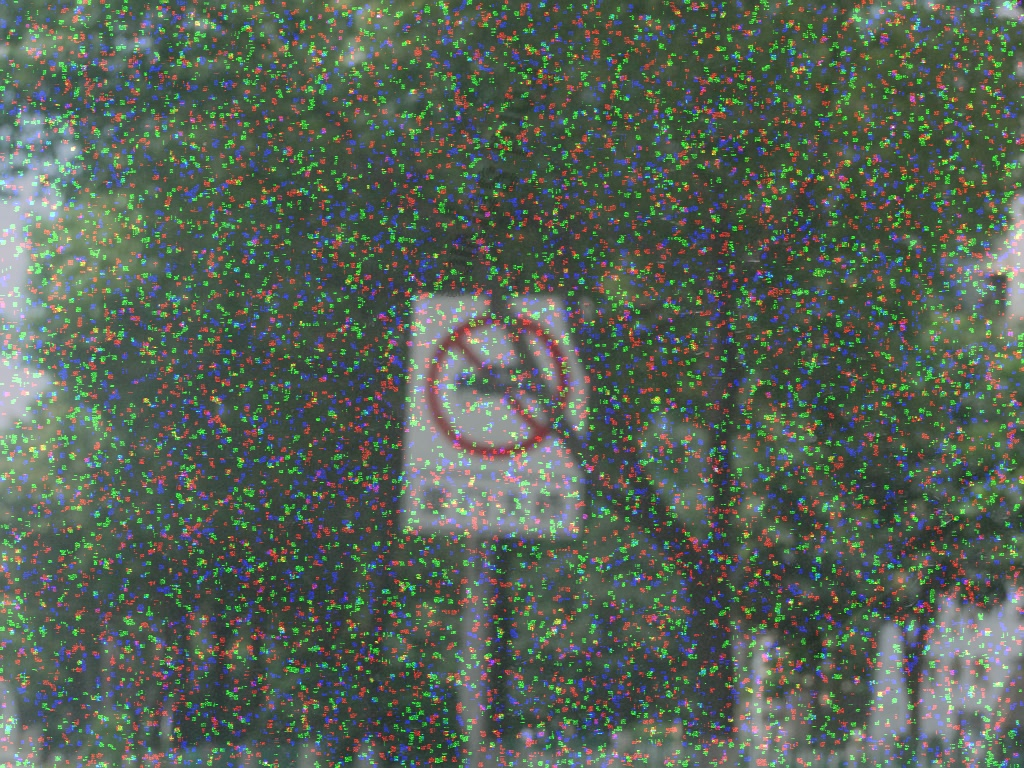Prohibitory Signs: (423, 314, 575, 463)
